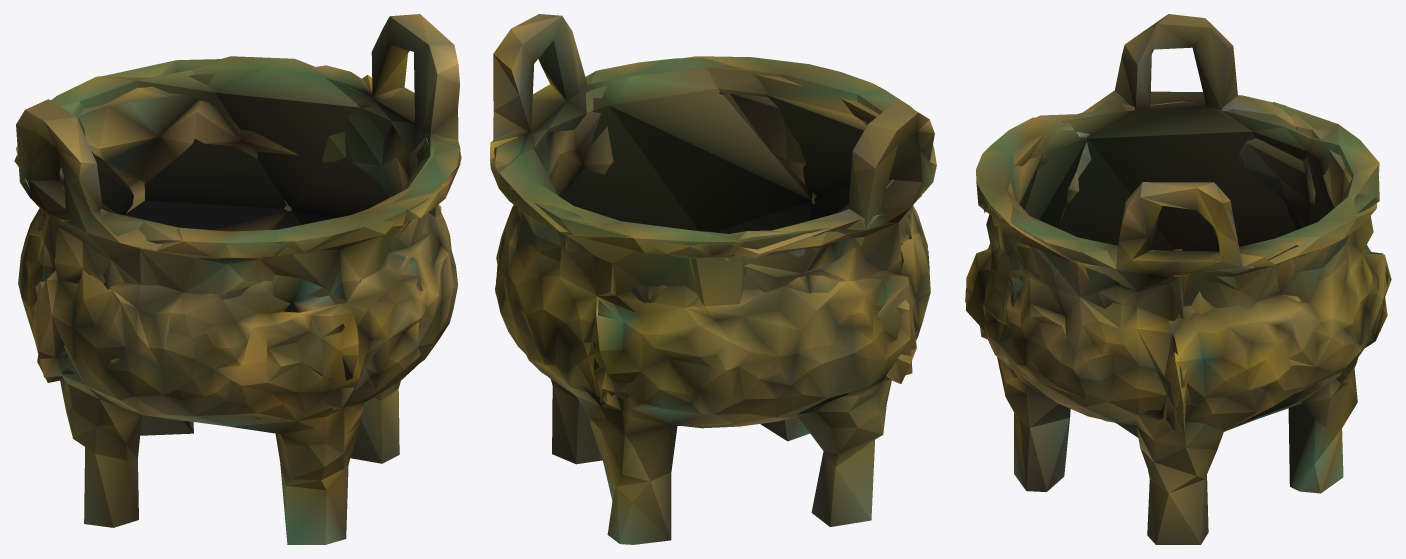
File: bq_furnace.vc2.glb
3 renders of one model, left to right at view 1: azimuth 30°, elevation 25°; view 2: azimuth 150°, elevation 25°; view 3: azimuth 270°, elevation 25°, orthographic. The views are drawn at different scales.
Visible parts, largest first — view 1: bq_furnace; view 2: bq_furnace; view 3: bq_furnace.
Part boxes in pixels (box(x1,y1,x2,y2)): bq_furnace: box(14, 14, 461, 544); bq_furnace: box(490, 14, 936, 544); bq_furnace: box(965, 14, 1391, 544).
Bounding box in the file's own units: 1.67 × 1.65 × 1.68.
